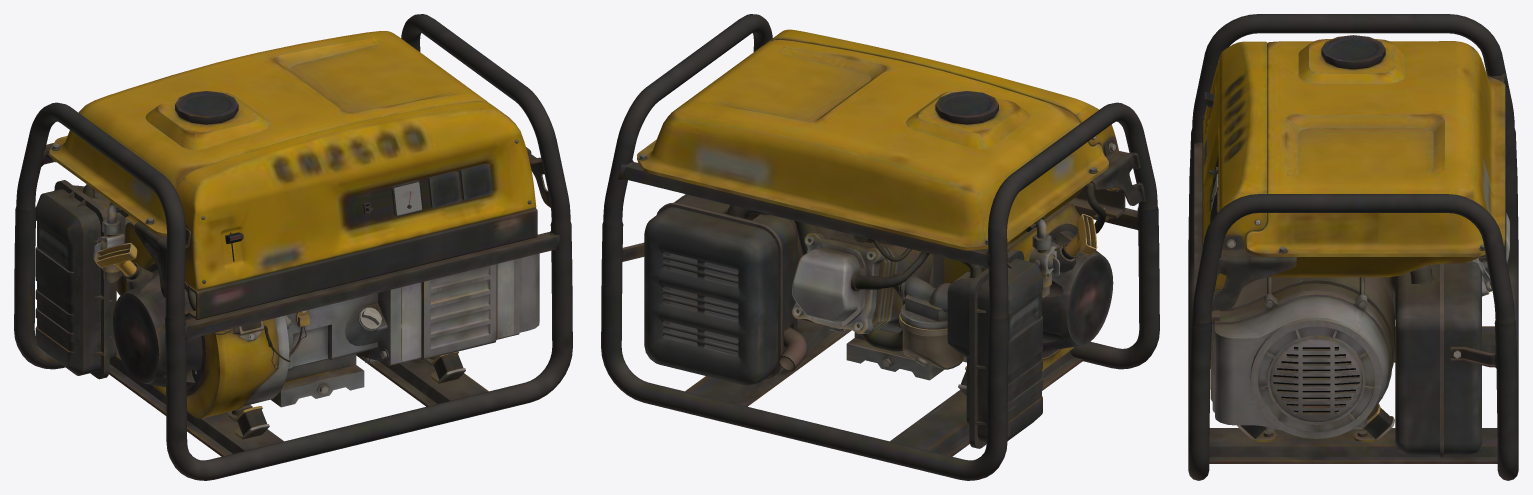
The model's file is portable_generator.gltf.
The picture shows the model from 3 angles, left to right: view 1: azimuth 30°, elevation 25°; view 2: azimuth 150°, elevation 25°; view 3: azimuth 270°, elevation 25°; orthographic projection.
Parts seen in each view (by area): view 1: portable_generator; view 2: portable_generator; view 3: portable_generator.
Part boxes in pixels (<box>): portable_generator: <box>14,14,572,480</box>; portable_generator: <box>601,14,1159,480</box>; portable_generator: <box>1188,14,1518,480</box>.
Size of the model in its own units: 0.8183 by 0.5769 by 0.564.
Materials: 2 (2 with a texture image).
